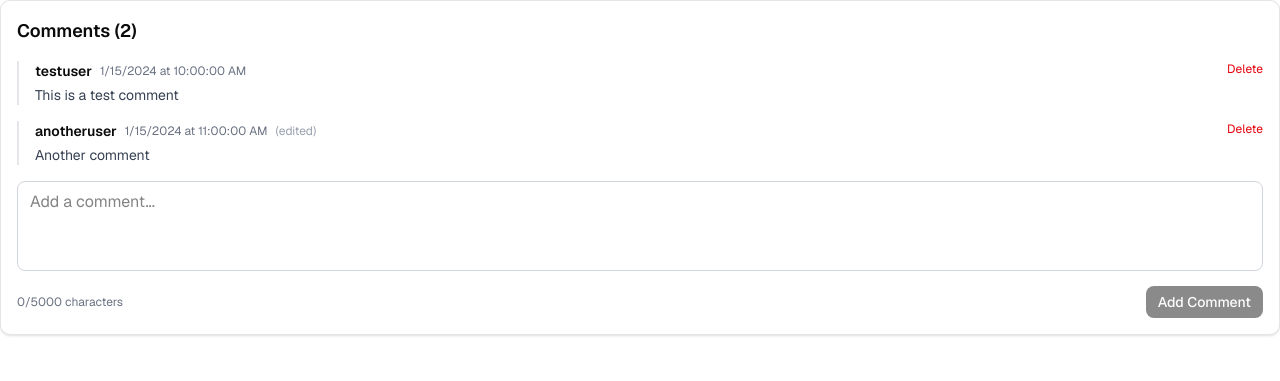
CommentSection › Delete Comment Interaction › should show error when delete fails
Expected: the text "This is a test comment" is shown, top-left (35, 86), bottom-right (179, 104)
What coordinates should you click on to do the following:
click the button with aria-label "Delete comment"
I would click on:
 (1245, 69)
Its box is top-left (1227, 61), bottom-right (1263, 77).
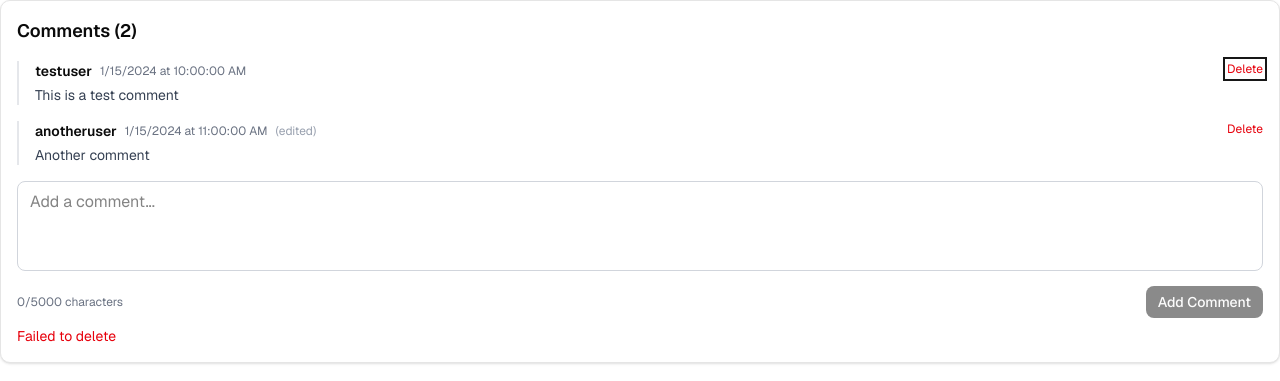
Result: the message reads "Failed to delete" at top-left (17, 327), bottom-right (116, 345)
